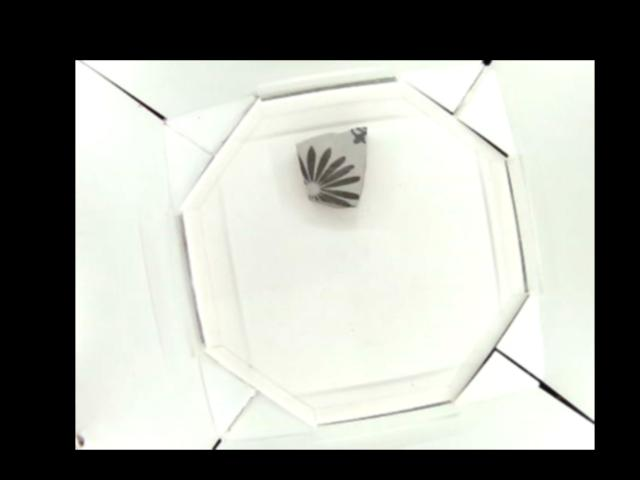China: (295, 126, 367, 207)
